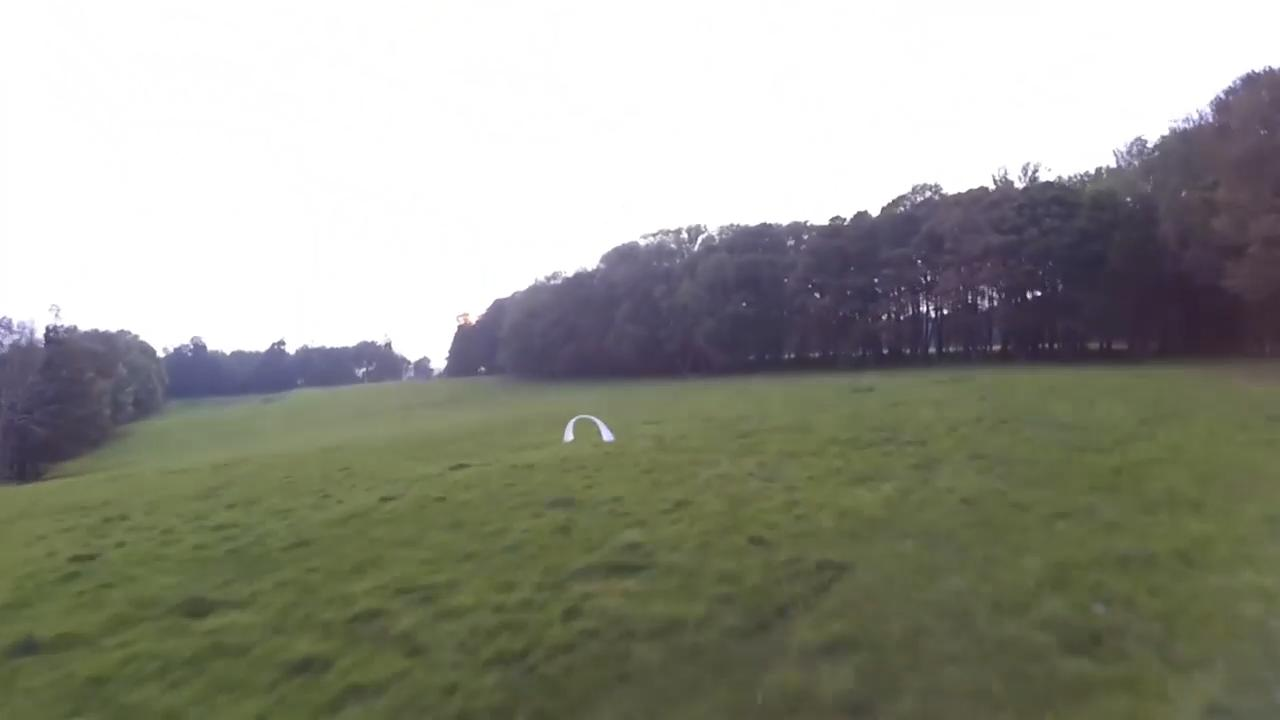gate: (563, 414, 616, 446)
